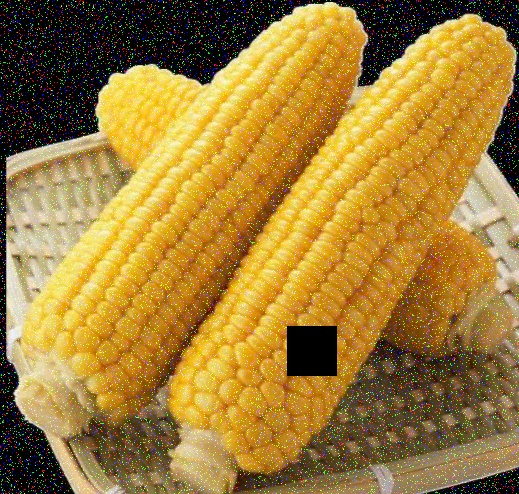corn: (13, 3, 366, 420), (203, 17, 502, 480), (93, 63, 500, 325)
